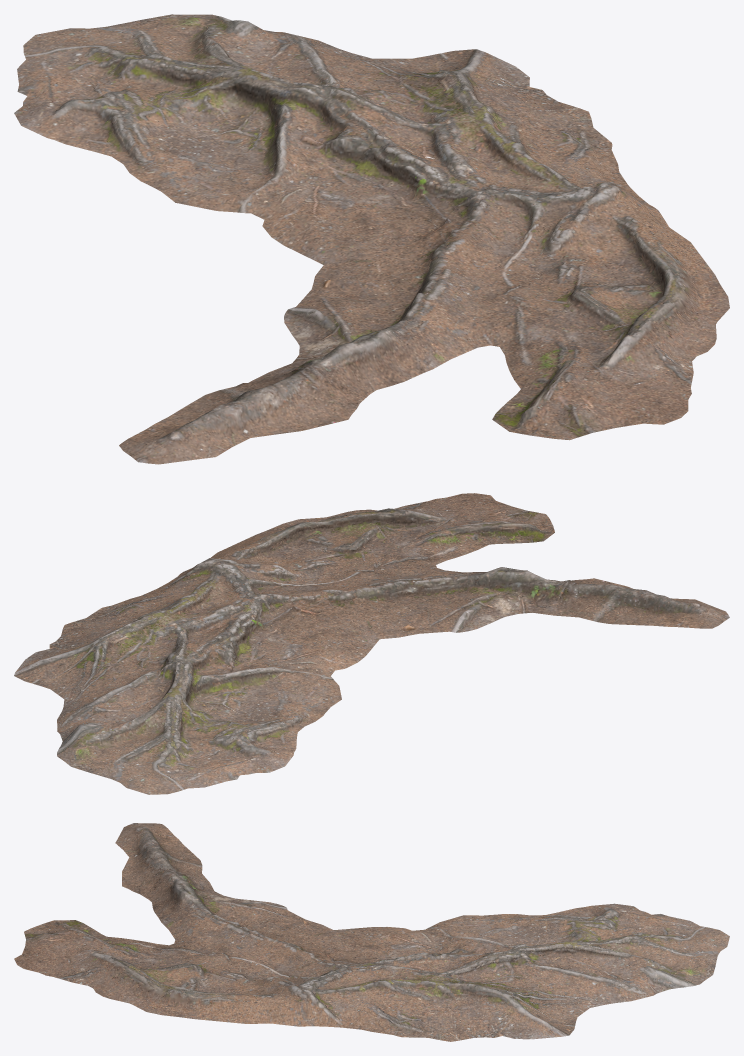
File: SM_RootsGround_01_03.fbx
3 views of the same model, one above another, from view 1: azimuth 30°, elevation 25°; view 2: azimuth 150°, elevation 25°; view 3: azimuth 270°, elevation 25° (orthographic). The views are drawn at different scales.
Parts seen in each view (by area): view 1: sm_RootsGround_01_03_LOD0; view 2: sm_RootsGround_01_03_LOD0; view 3: sm_RootsGround_01_03_LOD0.
Part boxes in pixels (x1=…): sm_RootsGround_01_03_LOD0: x1=14, y1=14, x2=729, y2=464; sm_RootsGround_01_03_LOD0: x1=14, y1=493, x2=729, y2=794; sm_RootsGround_01_03_LOD0: x1=14, y1=823, x2=729, y2=1041.
Bounding box in the file's own units: 348 × 252 × 14.55.
